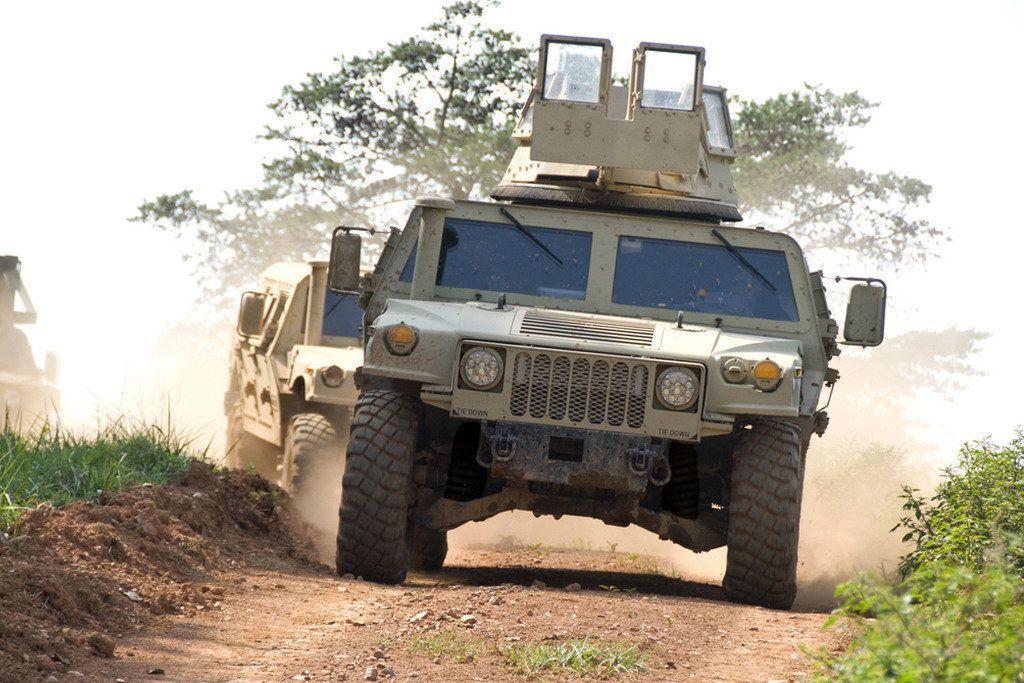armored_car: (327, 34, 888, 613), (223, 262, 377, 513)
